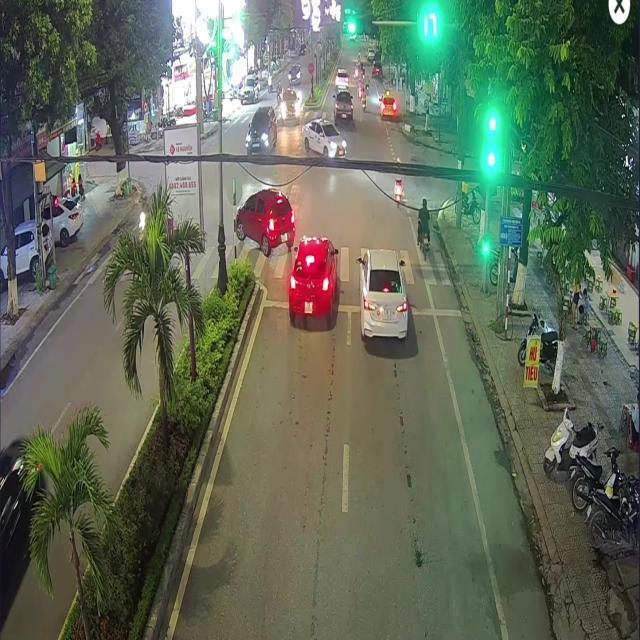car: (356, 249, 408, 337), (288, 236, 338, 327), (234, 188, 295, 256), (332, 89, 352, 121), (378, 90, 398, 120)
green_light: (346, 15, 373, 36), (486, 132, 495, 168), (483, 233, 487, 251)
motobike: (416, 228, 429, 259), (393, 179, 402, 206)
stop_line: (263, 299, 460, 315)
